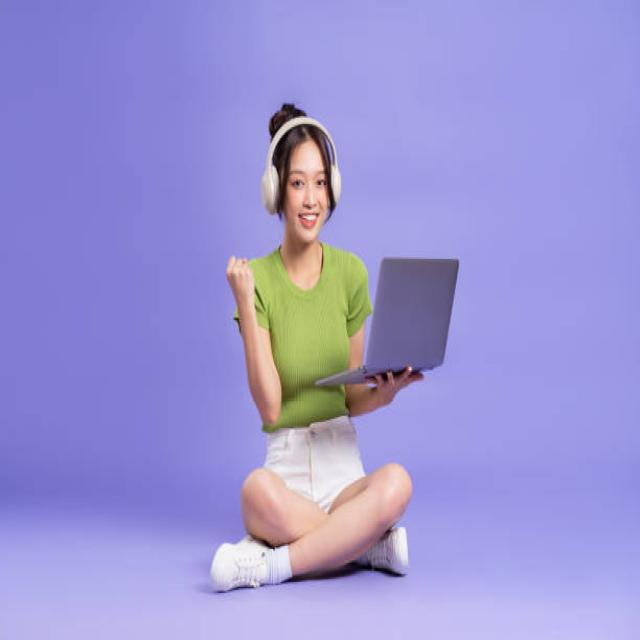Headphone: (261, 115, 342, 216)
